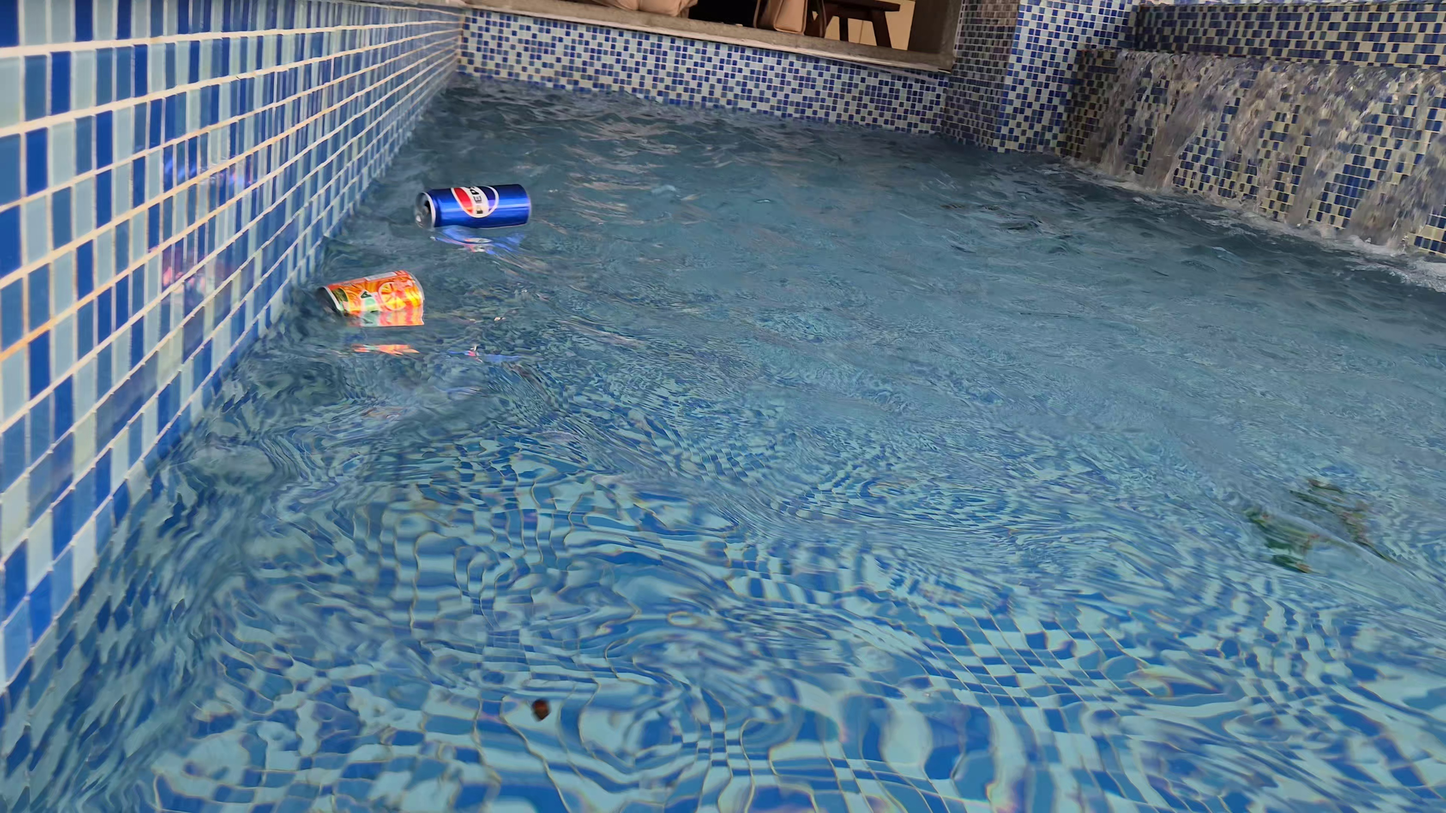debris: (307, 263, 429, 337), (410, 176, 535, 240)
